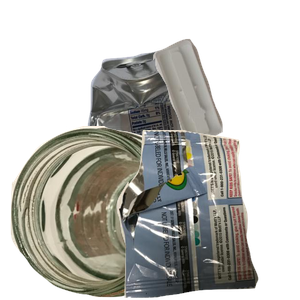glass: (10, 126, 220, 300)
metal: (85, 48, 300, 228)
plastic: (150, 36, 300, 173)
trash: (114, 130, 300, 300)
